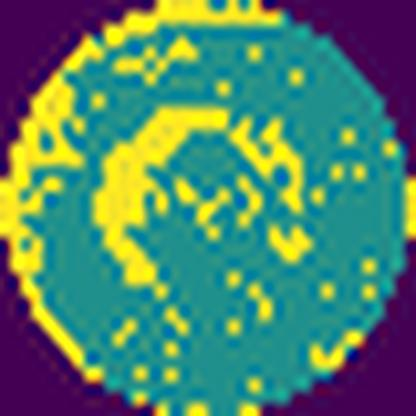Donut: (84, 90, 320, 321)
